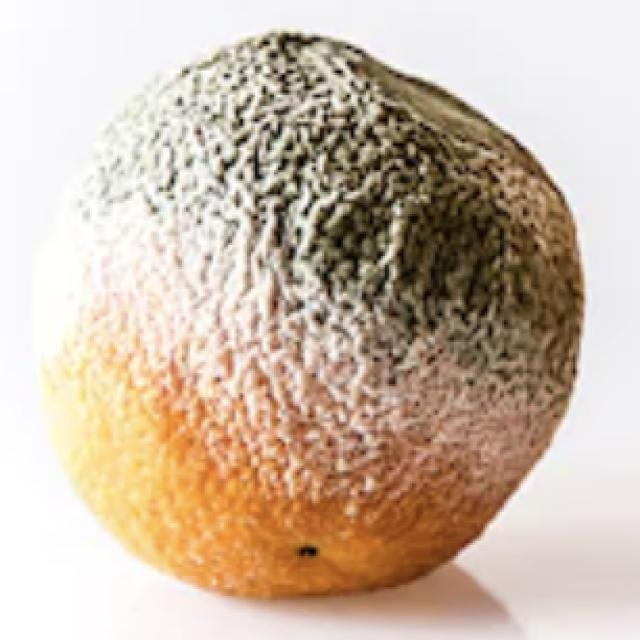sangat-busuk: (44, 31, 584, 597)
